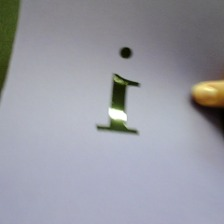violet1: (85, 42, 149, 139)
